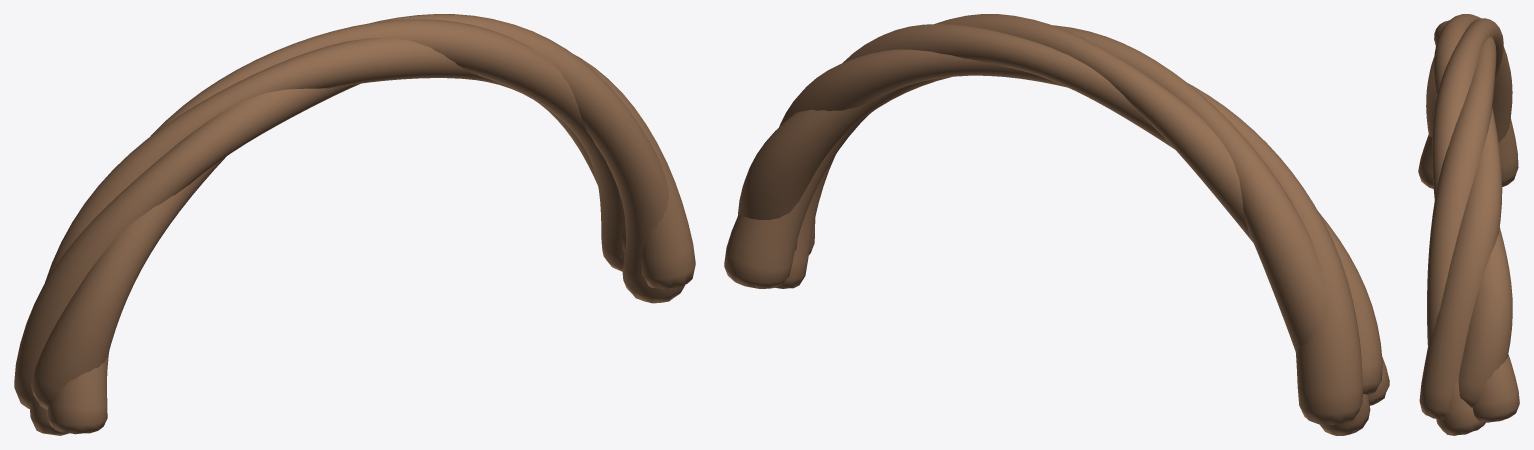
The model's file is SM_Forest_RootArch.fbx.
3 renders of one model, left to right at view 1: azimuth 30°, elevation 25°; view 2: azimuth 150°, elevation 25°; view 3: azimuth 270°, elevation 25°, orthographic. The views are drawn at different scales.
Visible parts, largest first — view 1: SM_Forest_RootArch; view 2: SM_Forest_RootArch; view 3: SM_Forest_RootArch.
Part boxes in pixels (x1,y1,x2,y2): SM_Forest_RootArch: [14, 14, 695, 435]; SM_Forest_RootArch: [724, 14, 1389, 435]; SM_Forest_RootArch: [1418, 14, 1519, 435].
Size of the model in its own units: 1008 by 500 by 169.
